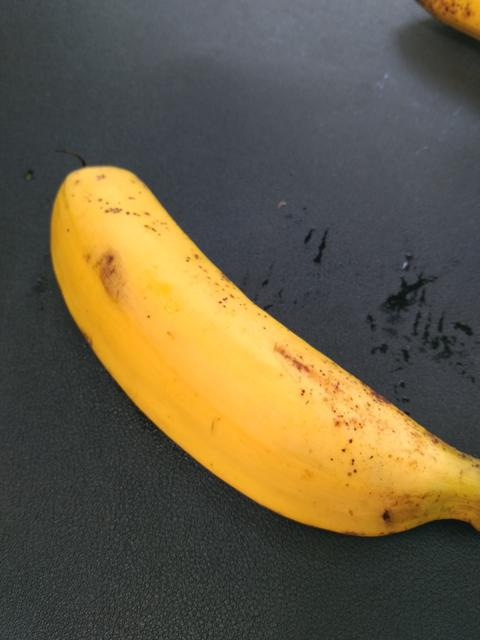ripe: (44, 156, 479, 534)
